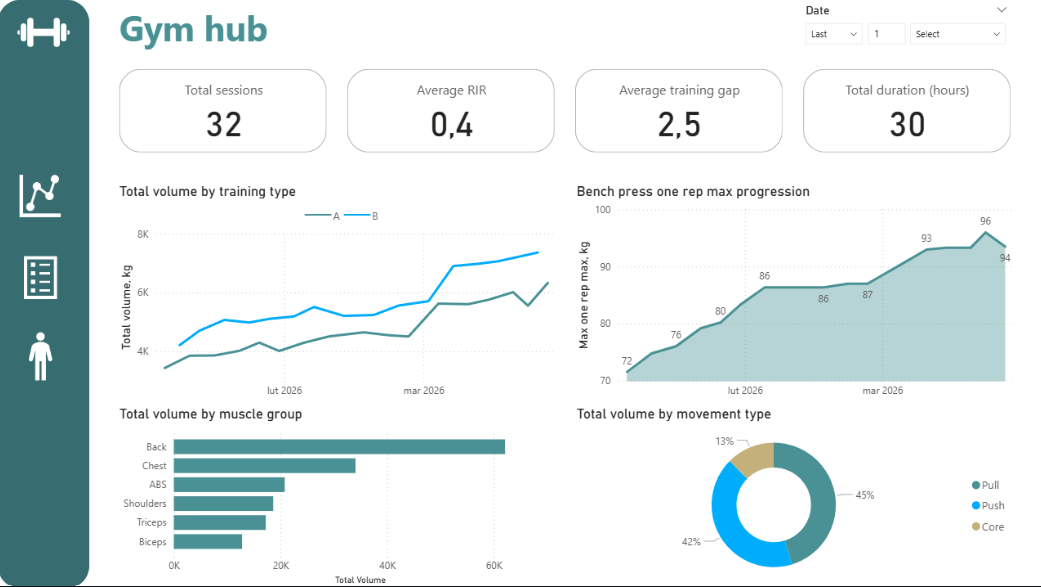

The page's visual inventory and layout, read from the dashboard file:
{"tool":"powerbi","page":{"name":"Overview","canvas":[1280,720],"ordinal":0},"visuals":[{"type":"shape","box":[0,0,112,720],"z":0},{"type":"lineChart","title":"Total volume by training type","fields":{"Y":["sets_log.Total Volume"],"Category":["sessions.date"],"Series":["exercise_dict.training_type"]},"box":[144,224,560,272],"z":1000},{"type":"lineChart","title":"Bench press one rep max progression","fields":{"Category":["sessions.date.Variation.Date Hierarchy.Year"],"Y":["sets_log.Max one rm"]},"box":[704,224,560,272],"z":2000},{"type":"cardVisual","fields":{"Data":["sets_log.Total Sessions","sets_log.Average RIR","sessions.Average Training Gap","calendar.Total duration (hours)"]},"box":[144,80,1104,112],"z":3000},{"type":"textbox","box":[144,0,224,80],"z":4000},{"type":"barChart","title":"Total volume by muscle group","fields":{"Y":["sets_log.Total Volume"],"Category":["exercise_dict.muscle_group"]},"box":[144,496,544,224],"z":5000},{"type":"donutChart","title":"Total volume by movement type","fields":{"Category":["exercise_dict.movement_type"],"Y":["sets_log.Total Volume"]},"box":[704,496,544,224],"z":6000},{"type":"image","box":[0,0,112,80],"z":7000},{"type":"slicer","fields":{"Values":["sessions.date"]},"box":[976,0,272,64],"z":8000},{"type":"image","box":[8,200,88,80],"z":9000},{"type":"image","box":[16,304,72,72],"z":10000},{"type":"image","box":[16,400,72,72],"z":11000}]}

Visuals, with their boxes on the page's 1280x720 design canvas (x1, y1, x2, y2). These are canvas units, not pixel positions in the 1041x587 screenshot, which may show the page scaled, cropped or inside an application window:
shape: pyautogui.locateOnScreen(0, 0, 112, 720)
"Total volume by training type" lineChart: pyautogui.locateOnScreen(144, 224, 704, 496)
"Bench press one rep max progression" lineChart: pyautogui.locateOnScreen(704, 224, 1264, 496)
cardVisual - sets_log.Total Sessions x sets_log.Average RIR: pyautogui.locateOnScreen(144, 80, 1248, 192)
textbox: pyautogui.locateOnScreen(144, 0, 368, 80)
"Total volume by muscle group" barChart: pyautogui.locateOnScreen(144, 496, 688, 720)
"Total volume by movement type" donutChart: pyautogui.locateOnScreen(704, 496, 1248, 720)
image: pyautogui.locateOnScreen(0, 0, 112, 80)
slicer - sessions.date: pyautogui.locateOnScreen(976, 0, 1248, 64)
image: pyautogui.locateOnScreen(8, 200, 96, 280)
image: pyautogui.locateOnScreen(16, 304, 88, 376)
image: pyautogui.locateOnScreen(16, 400, 88, 472)
